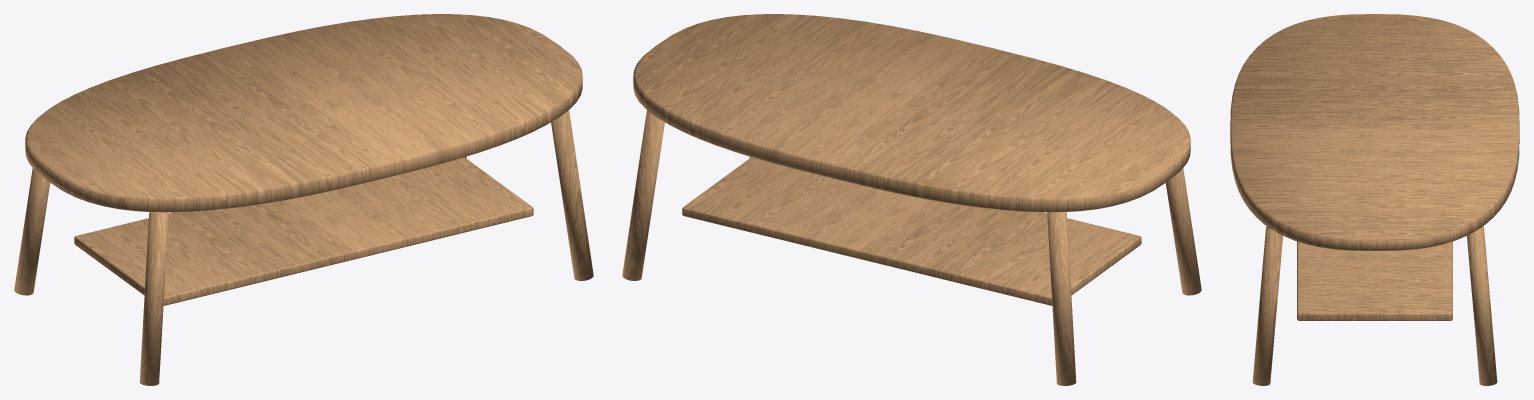
File: coffee-oval-oak.glb
3 renders of one model, left to right at view 1: azimuth 30°, elevation 25°; view 2: azimuth 150°, elevation 25°; view 3: azimuth 270°, elevation 25°, orthographic. The views are drawn at different scales.
Parts seen in each view (by area): view 1: top, shelf, leg, leg.002, leg.001; view 2: top, shelf, leg.001, leg.003, leg; view 3: top, shelf, leg.002, leg.003.
Boxes of the visible parts, box(x1,y1,x2,y2) form: top: box(25, 14, 582, 212); shelf: box(74, 157, 533, 305); leg: box(139, 212, 168, 385); leg.002: box(551, 110, 593, 280); leg.001: box(14, 168, 50, 295); top: box(633, 14, 1190, 212); shelf: box(682, 157, 1141, 305); leg.001: box(1047, 212, 1076, 385); leg.003: box(622, 110, 664, 280); leg: box(1165, 168, 1201, 295); top: box(1230, 14, 1519, 250); shelf: box(1297, 241, 1452, 320); leg.002: box(1252, 226, 1282, 385); leg.003: box(1467, 226, 1497, 385).
Bounding box in the file's own units: 1.2 × 0.4027 × 0.65.
Materials: 1 (1 with a texture image).
